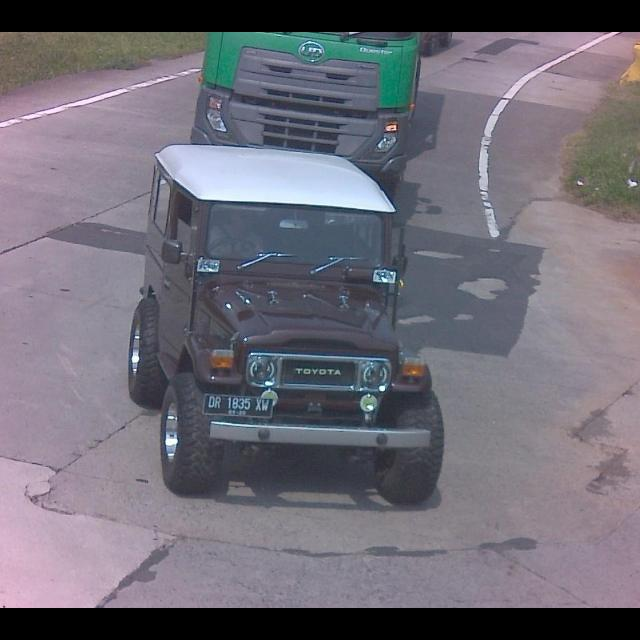plate: (203, 391, 274, 421)
